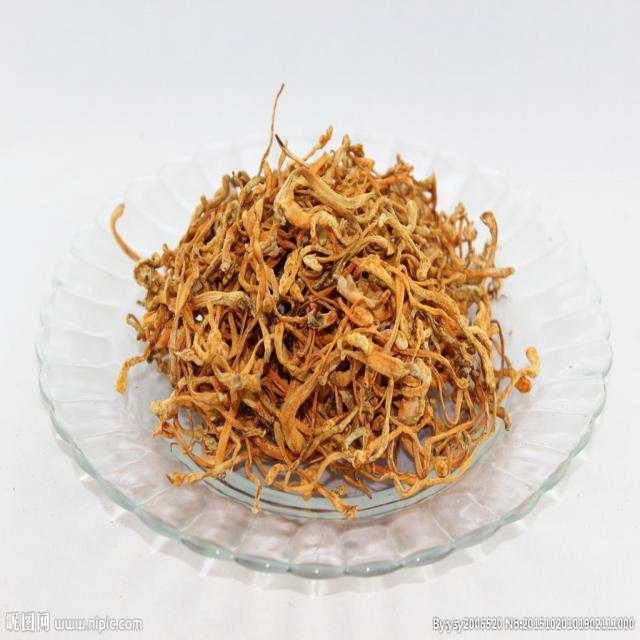Cordyceps militaris: (87, 133, 537, 489)
